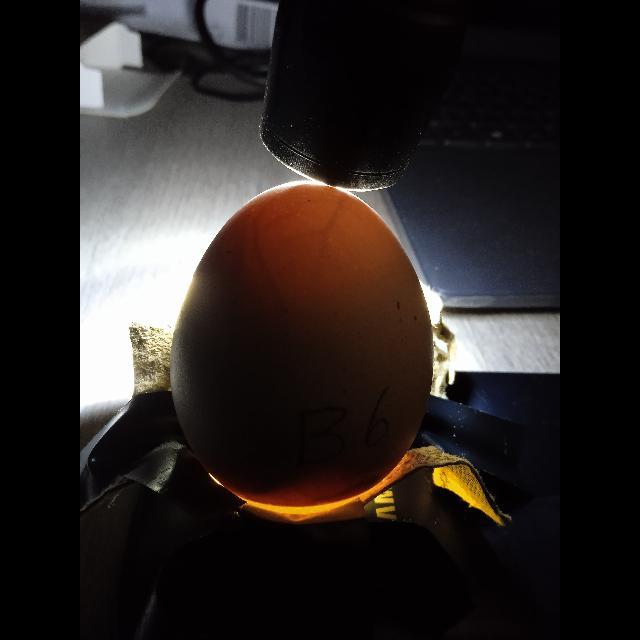Fertile: (164, 183, 438, 515)
